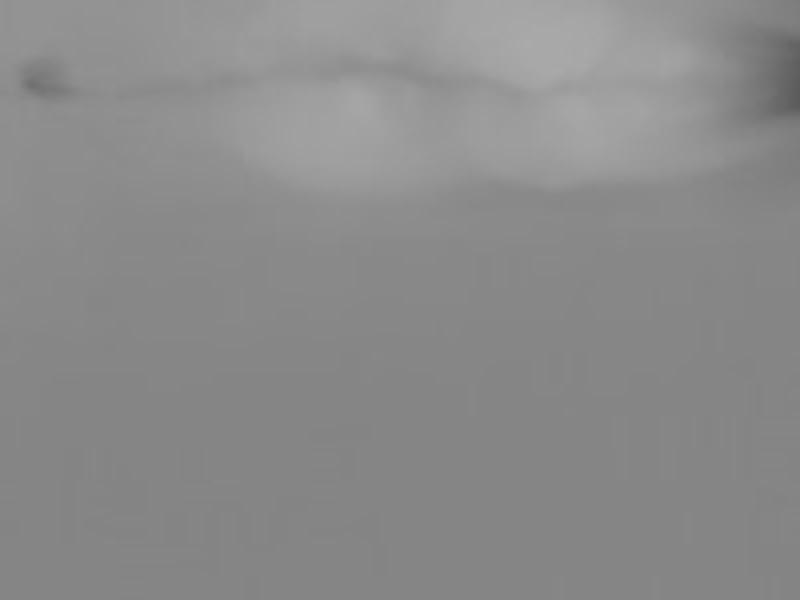defect: (19, 55, 66, 93)
